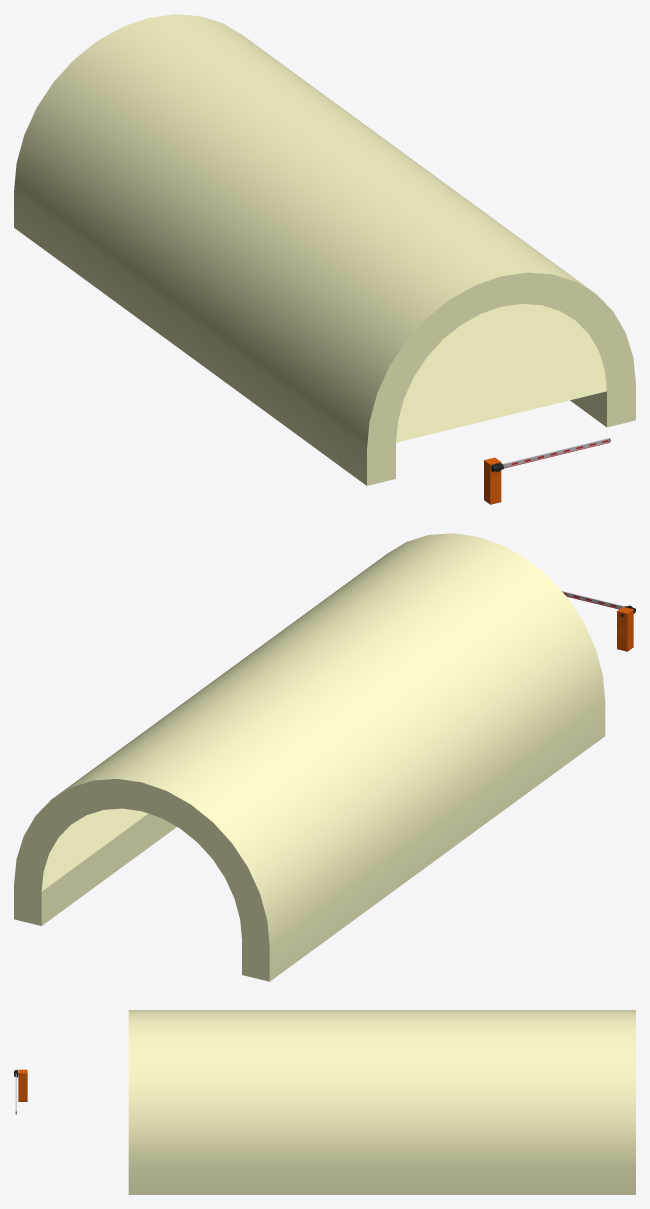
Rendered from end tunnel .fbx.
3 renders of one model, top to bottom at view 1: azimuth 30°, elevation 25°; view 2: azimuth 150°, elevation 25°; view 3: azimuth 270°, elevation 25°, orthographic. The views are drawn at different scales.
Parts seen in each view (by area): view 1: Cylinder, body_low_car-barrier_0, barrier_low_car-barrier_0; view 2: Cylinder, body_low_car-barrier_0; view 3: Cylinder, body_low_car-barrier_0.
Part boxes in pixels (x1,y1,x2,y2): Cylinder: (14,14,635,485); body_low_car-barrier_0: (484,457,501,504); barrier_low_car-barrier_0: (491,438,610,471); Cylinder: (14,533,605,981); body_low_car-barrier_0: (617,606,633,651); Cylinder: (128,1010,635,1194); body_low_car-barrier_0: (18,1069,27,1101).
Size of the model in its own units: 647 by 406 by 1801.
2 materials, 2 textured.
